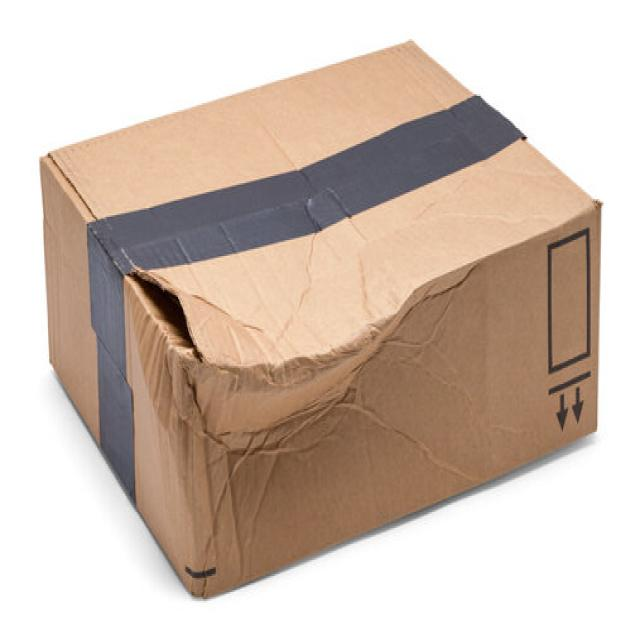Kardus kondisi rusak: (39, 41, 604, 604)
